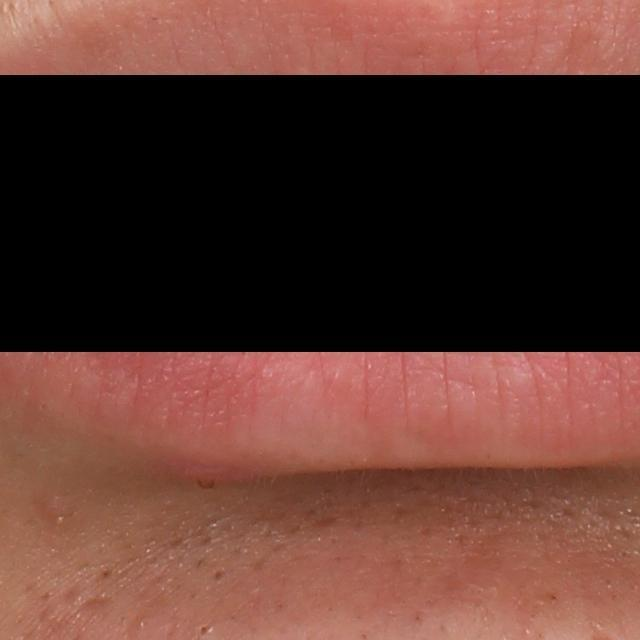comedo: (194, 618, 215, 636), (211, 567, 228, 584)
